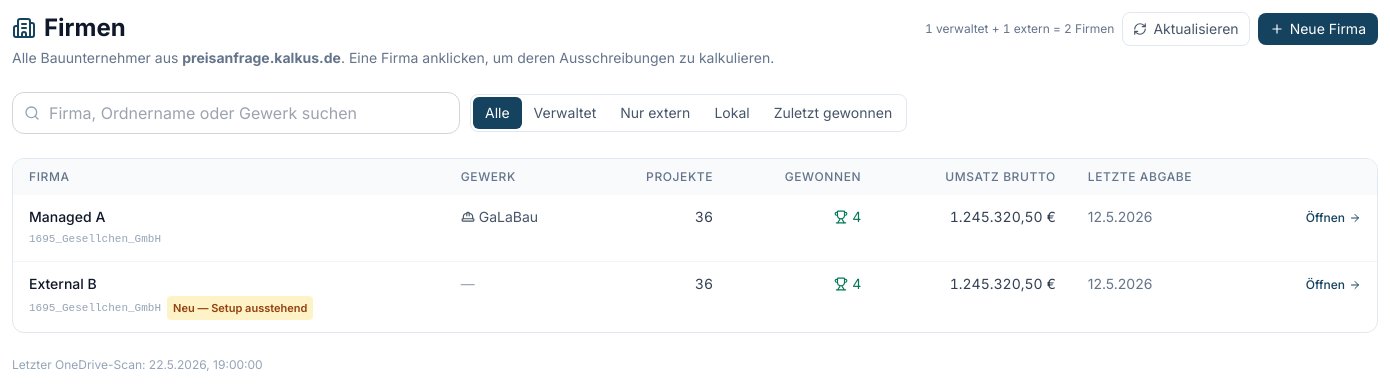
Test case: Firmen.tsx — filters › "Nur extern" tab hides managed rows
Expected: the link "External B" is shown, [29, 275, 97, 292]
What coordinates should you click on to do the following:
click the button "Nur extern"
I would click on:
 (655, 113)
Its box is [608, 97, 702, 129].
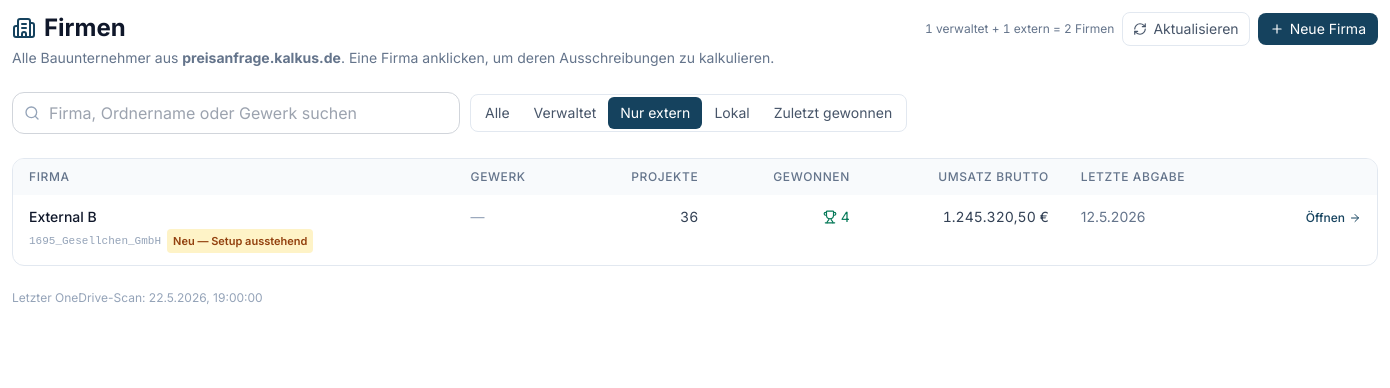
Expected: the link "External B" is shown, [29, 208, 97, 225]
Expected: the link "Managed A" is gone
